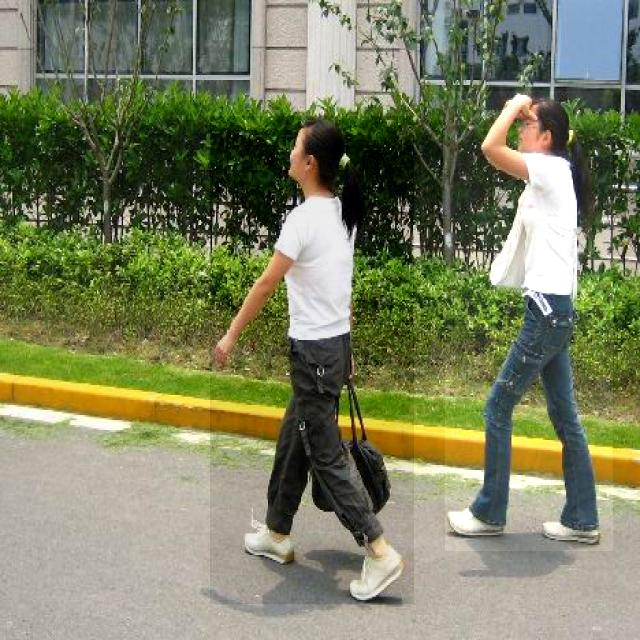with scooter: (210, 116, 414, 604), (445, 91, 613, 551)
